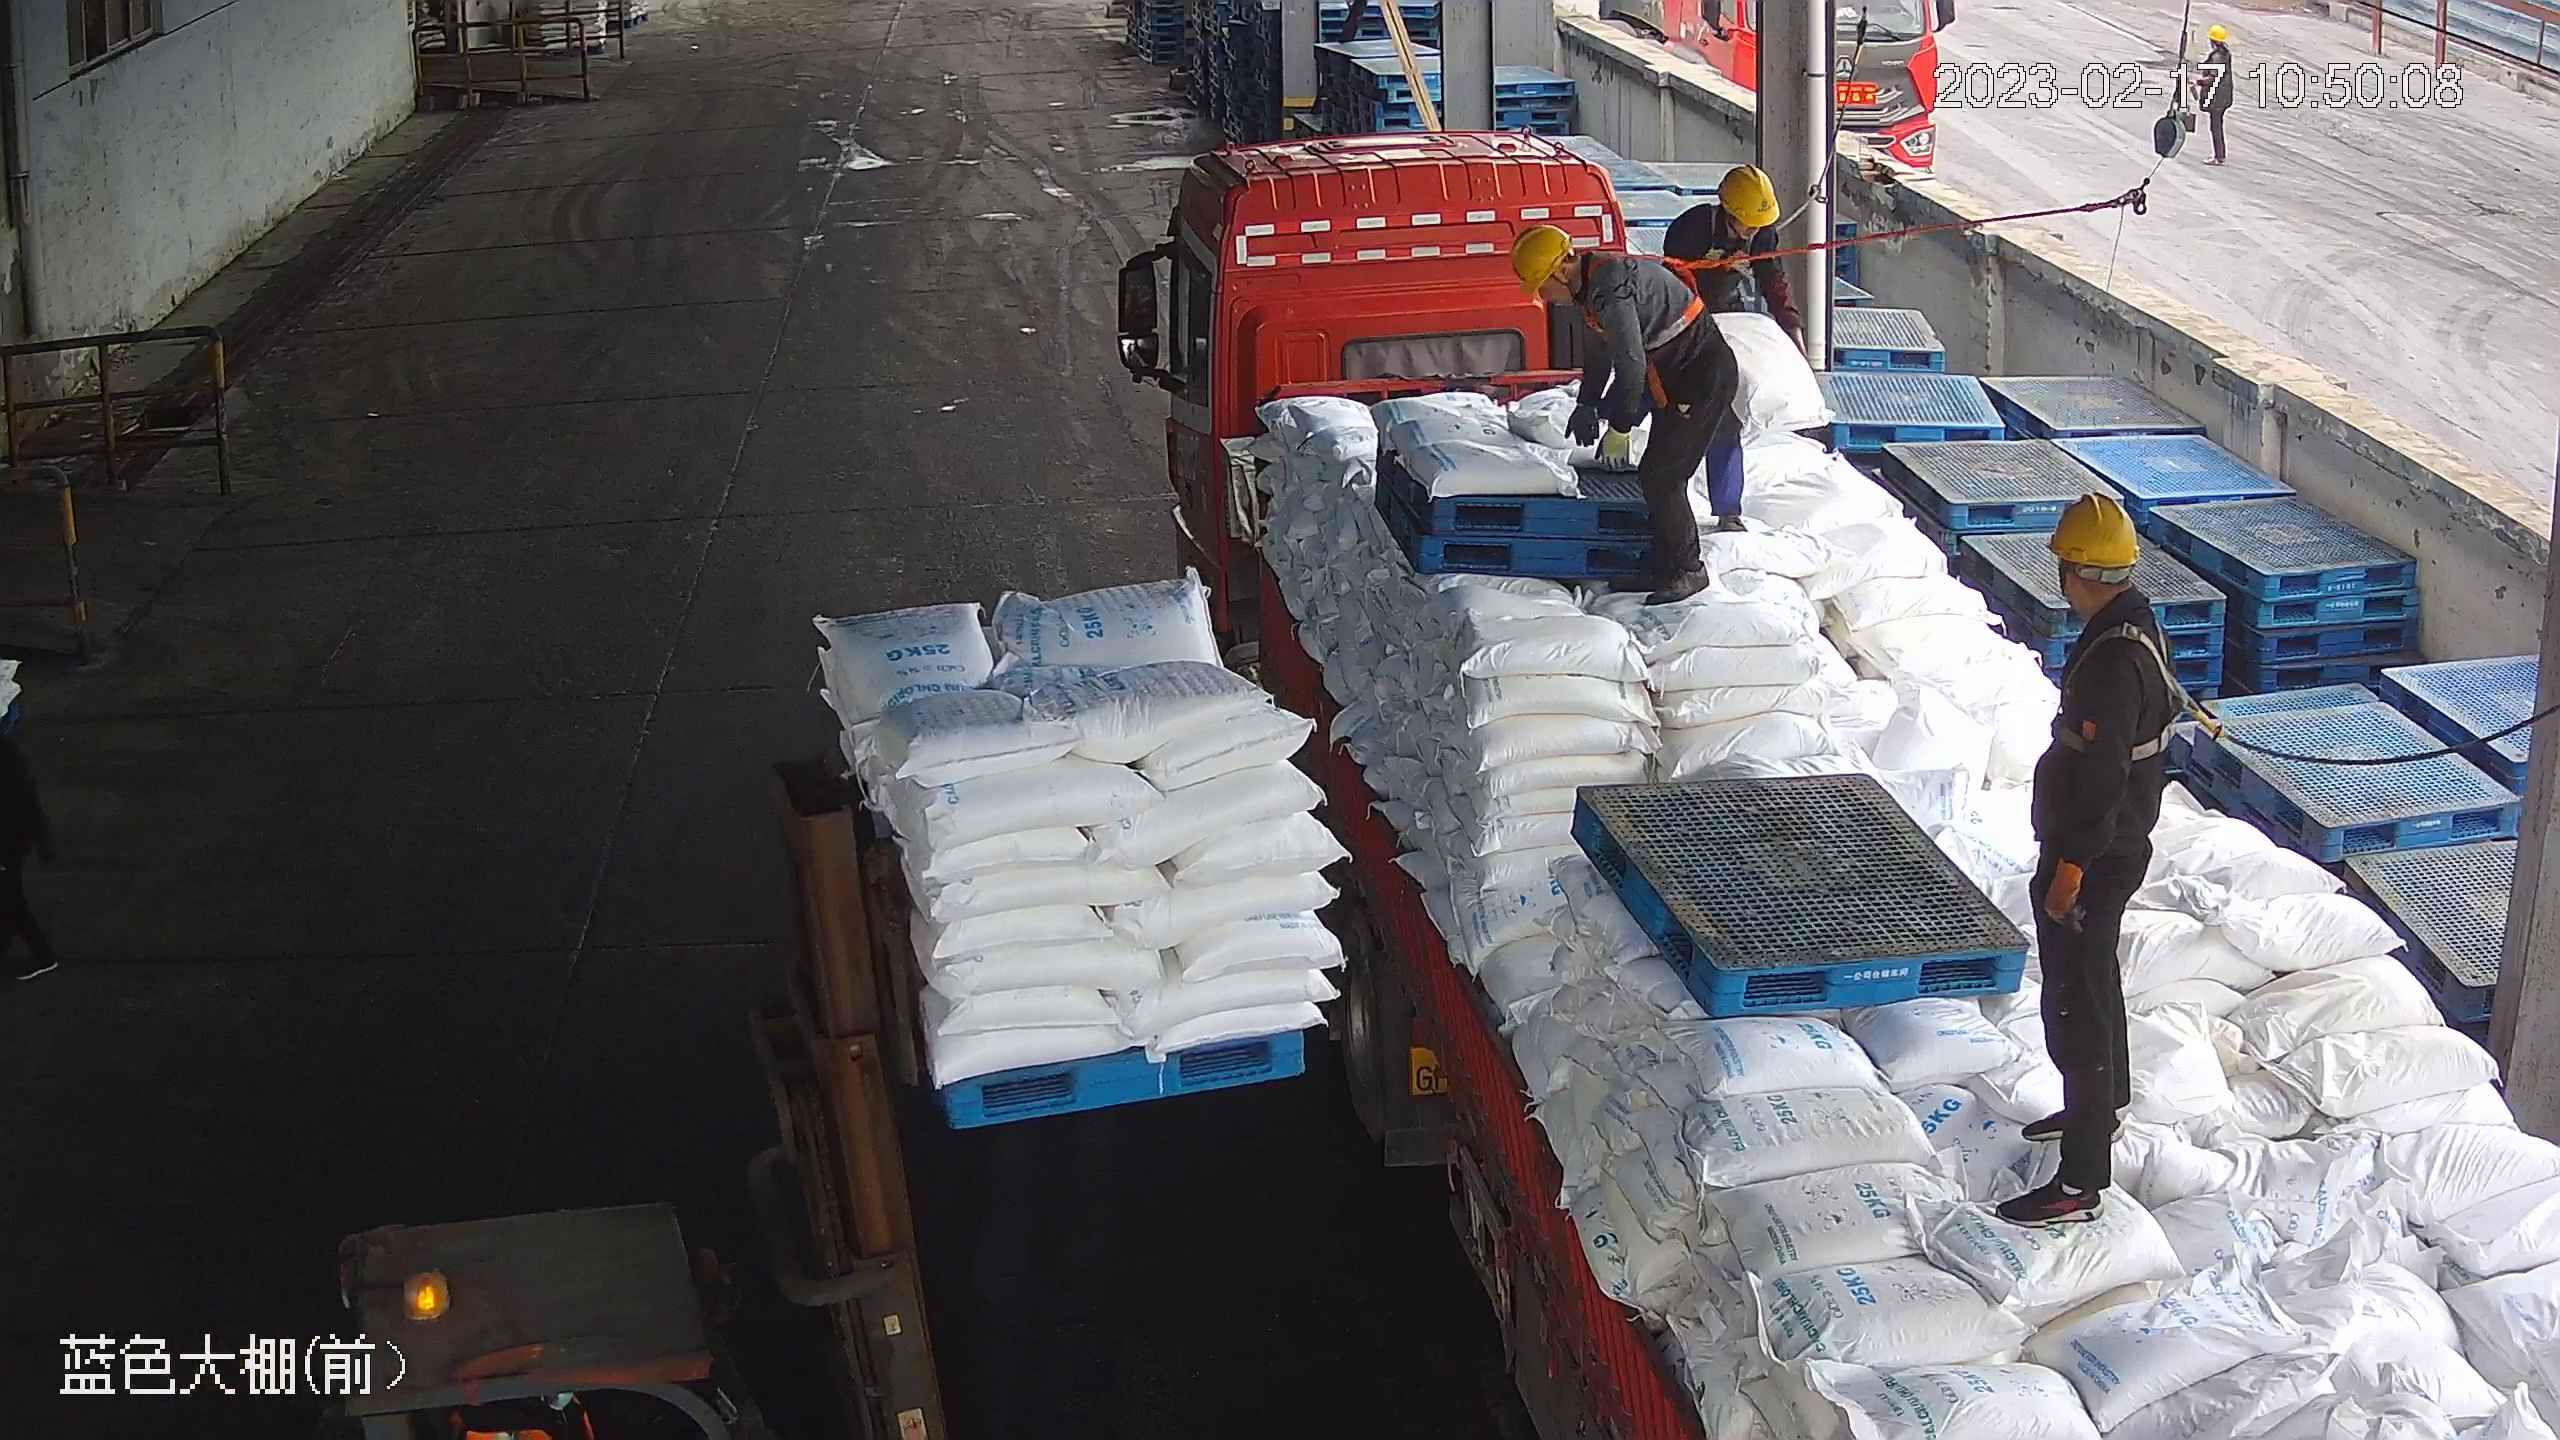belt: (2064, 604, 2205, 764), (1574, 248, 1713, 345), (1701, 199, 1767, 256)
head: (2039, 491, 2184, 690), (1510, 220, 1670, 328), (1671, 164, 1780, 245)
helmet: (2040, 488, 2146, 564), (1510, 221, 1572, 298), (1721, 163, 1780, 226)
people: (2013, 490, 2178, 1229), (1507, 218, 1752, 602)
truck: (1109, 141, 2557, 1434)
